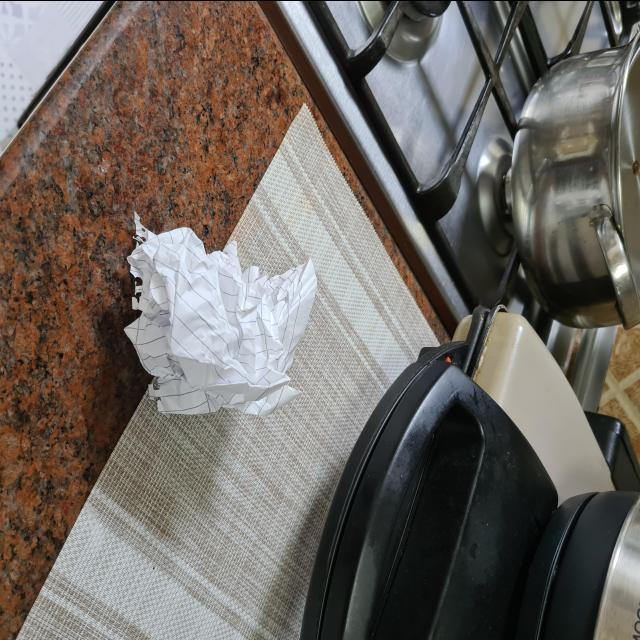kertas: (127, 222, 318, 410)
